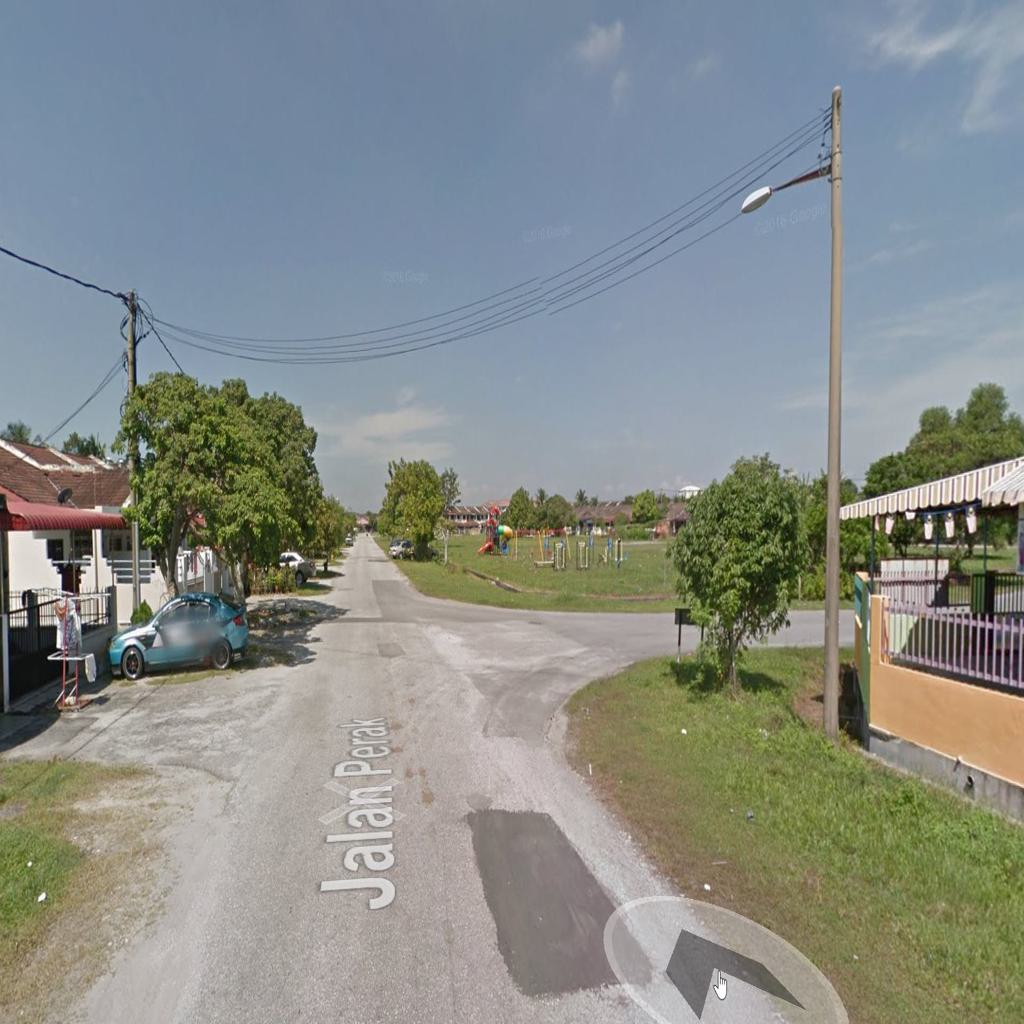Junction: (438, 581, 699, 736)
